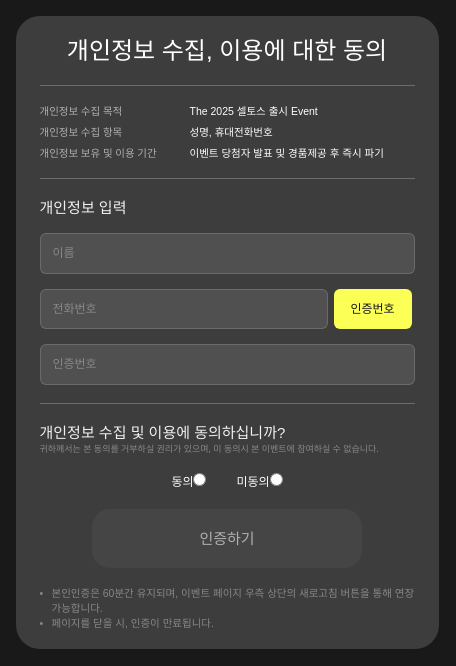
Test: AuthModal Component 렌더링 및 입력 테스트 › 번호입력창에 01022222222 텍스트를 입력하면 010-2222-2222의 값이 들어와야 한다.
The image size is (456, 666).
Type "01022222222" into the field with placeholder "전화번호".
click(184, 309); type("01022222222")  # box [40,289,328,329]
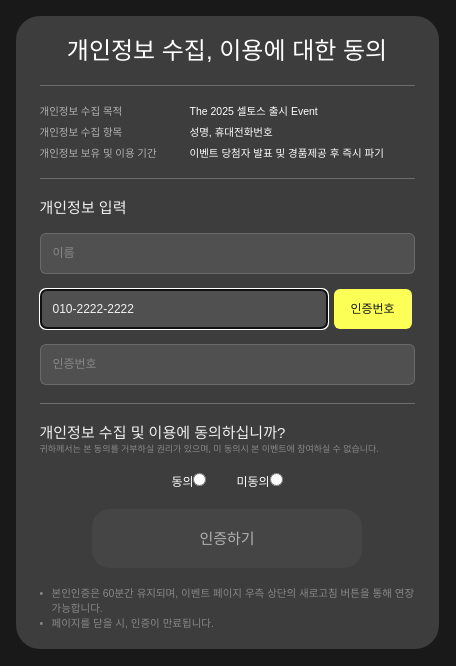
Check: the field with placeholder "전화번호" holds "010-2222-2222", box [40,289,328,329]
